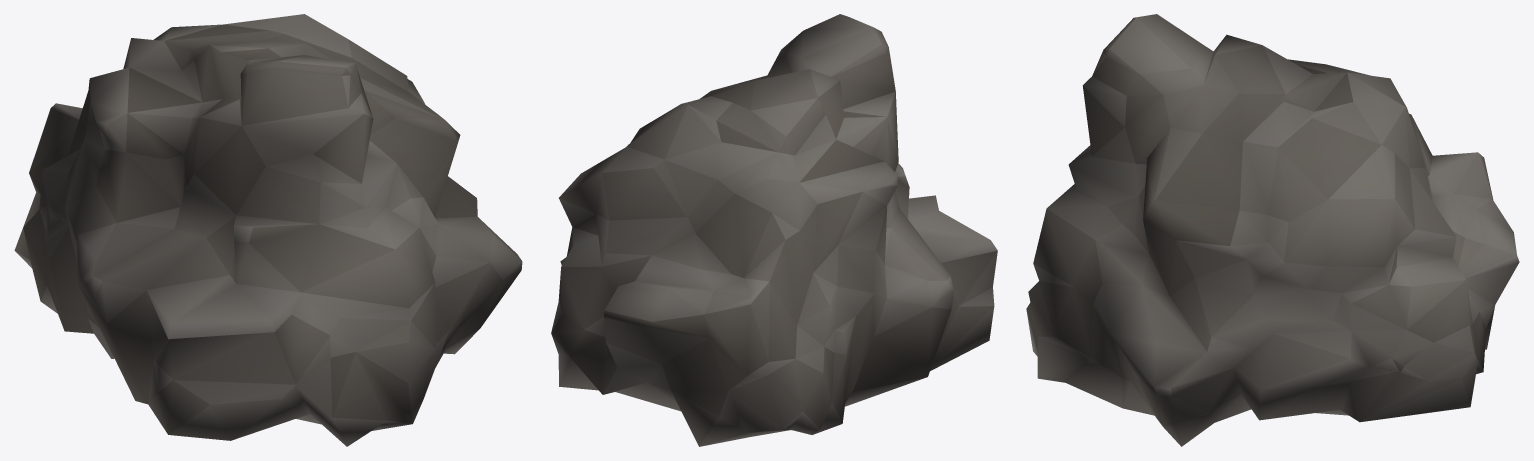
3 views of the same model, side by side, from view 1: azimuth 30°, elevation 25°; view 2: azimuth 150°, elevation 25°; view 3: azimuth 270°, elevation 25° (orthographic). The views are drawn at different scales.
Visible parts, largest first — view 1: Rock1_LP:polySurface1; view 2: Rock1_LP:polySurface1; view 3: Rock1_LP:polySurface1.
Part boxes in pixels (x1,y1,x2,y2): Rock1_LP:polySurface1: [14, 14, 522, 446]; Rock1_LP:polySurface1: [551, 14, 997, 446]; Rock1_LP:polySurface1: [1026, 14, 1519, 446].
Bounding box in the file's own units: 0.1081 × 0.0942 × 0.1241.
